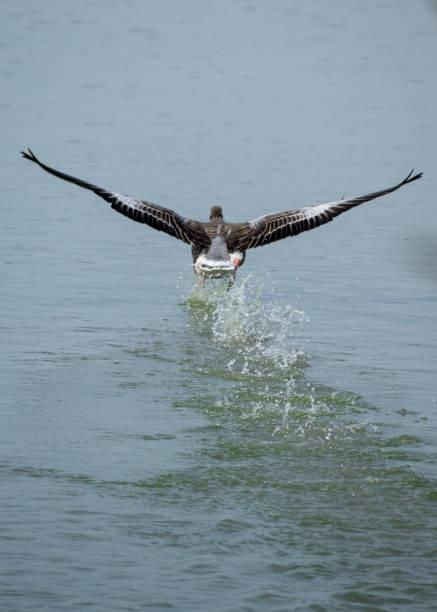Canadian-Goose: (19, 145, 428, 280)
